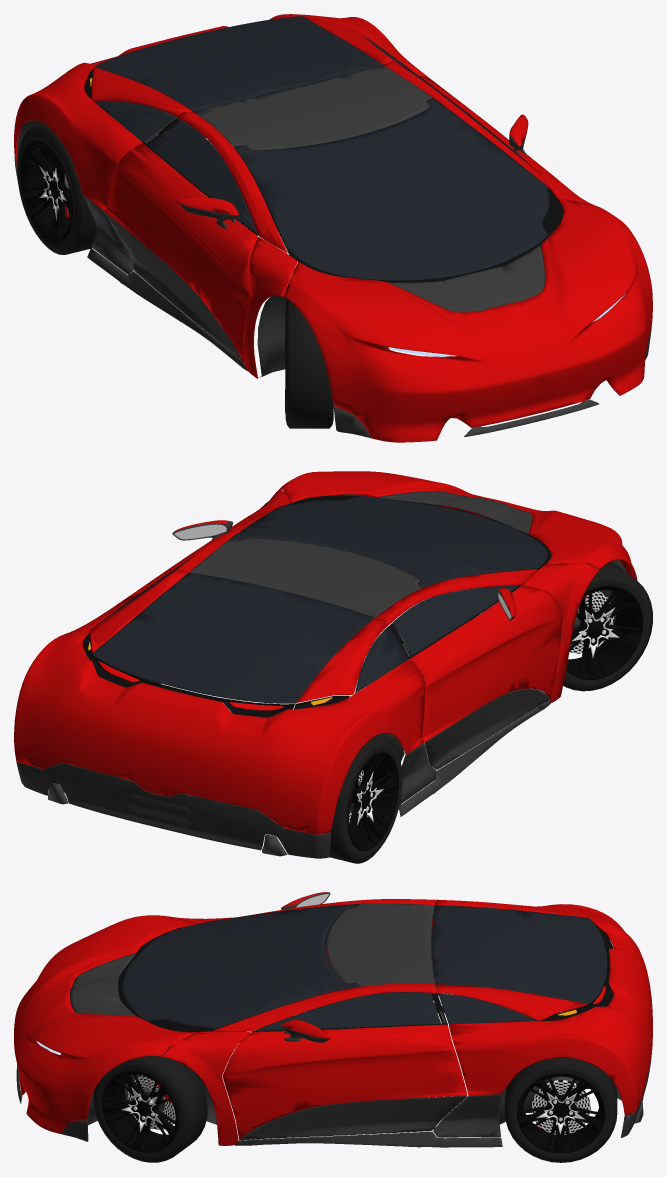
File: concept-car.glb
3 renders of one model, top to bottom at view 1: azimuth 30°, elevation 25°; view 2: azimuth 150°, elevation 25°; view 3: azimuth 270°, elevation 25°, orthographic. The views are drawn at different scales.
Parts seen in each view (by area): view 1: BodyHood, BodyWindshield, BodyRearwindow, BodyDoorRColor1, BodyRearPanelsColor1, BodyRoofPanel, BodyPillars, BodyPanelsColor2, BodyHoodTopgrill, WheelFrontR, BodyDoorRWindow, WheelRearRRim (+7 smaller); view 2: BodyRearPanelsColor1, BodyRearwindow, BodyWindshield, BodyPanelsColor2, BodyDoorRColor1, BodyRoofPanel, BodyHood, BodyPillars, WheelFrontRRim, BodyDoorRColor2, WheelRearRRim, BodyDoorRWindow (+7 smaller); view 3: BodyWindshield, BodyRearPanelsColor1, BodyDoorLColor1, BodyHood, BodyRearwindow, BodyRoofPanel, BodyPillars, BodyDoorLColor2, BodyPanelsColor2, WheelFrontL, WheelRearLRim, WheelFrontLRim (+10 smaller).
Part boxes in pixels (x1=…): BodyHood: x1=283, y1=198, x2=652, y2=442; BodyWindshield: x1=234, y1=98, x2=549, y2=280; BodyRearwindow: x1=94, y1=16, x2=382, y2=111; BodyDoorRColor1: x1=104, y1=143, x2=257, y2=363; BodyRearPanelsColor1: x1=14, y1=14, x2=432, y2=210; BodyRoofPanel: x1=193, y1=65, x2=432, y2=150; BodyPillars: x1=176, y1=61, x2=599, y2=378; BodyPanelsColor2: x1=15, y1=110, x2=651, y2=438; BodyHoodTopgrill: x1=388, y1=245, x2=544, y2=312; WheelFrontR: x1=285, y1=299, x2=333, y2=428; BodyDoorRWindow: x1=148, y1=120, x2=257, y2=234; WheelRearRRim: x1=20, y1=140, x2=73, y2=241; BodyRearPanelsColor1: x1=14, y1=569, x2=425, y2=834; BodyRearwindow: x1=92, y1=572, x2=373, y2=703; BodyWindshield: x1=229, y1=496, x2=547, y2=587; BodyPanelsColor2: x1=16, y1=681, x2=550, y2=858; BodyDoorRColor1: x1=409, y1=585, x2=562, y2=742; BodyRoofPanel: x1=189, y1=537, x2=422, y2=617; BodyHood: x1=279, y1=471, x2=637, y2=580; BodyPillars: x1=175, y1=489, x2=599, y2=702; WheelFrontRRim: x1=566, y1=585, x2=643, y2=679; BodyDoorRColor2: x1=424, y1=688, x2=549, y2=769; WheelRearRRim: x1=347, y1=752, x2=398, y2=850; BodyDoorRWindow: x1=392, y1=585, x2=519, y2=655; BodyWindshield: x1=122, y1=904, x2=358, y2=1028; BodyRearPanelsColor1: x1=436, y1=899, x2=652, y2=1115; BodyDoorLColor1: x1=222, y1=1024, x2=467, y2=1140; BodyHood: x1=14, y1=915, x2=196, y2=1133; BodyRearwindow: x1=431, y1=905, x2=607, y2=1004; BodyRoofPanel: x1=326, y1=903, x2=434, y2=986; BodyPillars: x1=163, y1=899, x2=437, y2=1145; BodyDoorLColor2: x1=240, y1=1096, x2=467, y2=1140; BodyPanelsColor2: x1=16, y1=1000, x2=652, y2=1147; WheelFrontL: x1=93, y1=1050, x2=207, y2=1162; WheelRearLRim: x1=517, y1=1073, x2=605, y2=1153; WheelFrontLRim: x1=102, y1=1070, x2=178, y2=1152.
Size of the model in its own units: 2.54 by 1.15 by 4.36.
15 materials, 1 textured.
